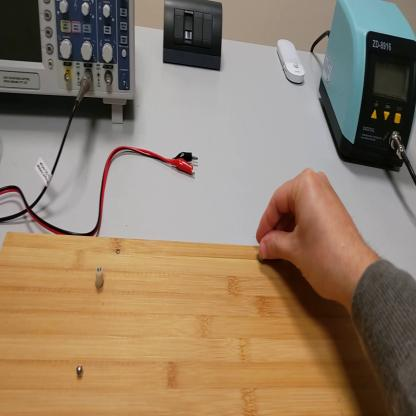hand: (256, 168, 363, 308)
oscilloscope: (1, 3, 138, 128)
welder station: (319, 1, 416, 174)
working area: (2, 233, 392, 415)
